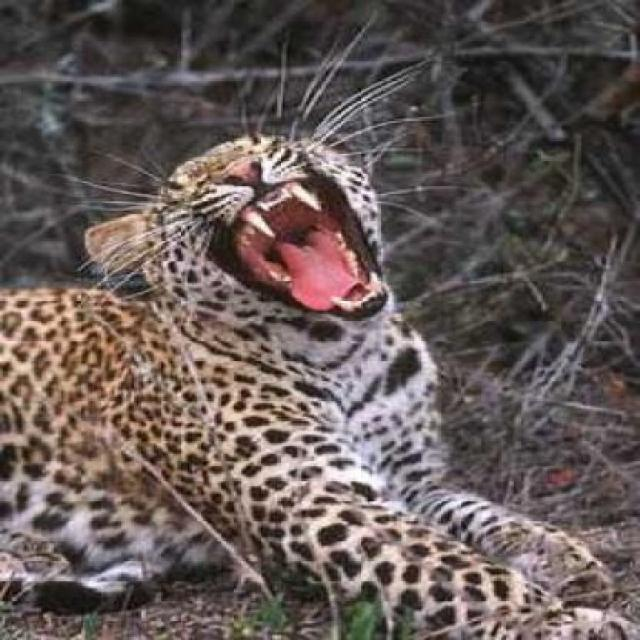Leopard: (38, 82, 639, 640)
